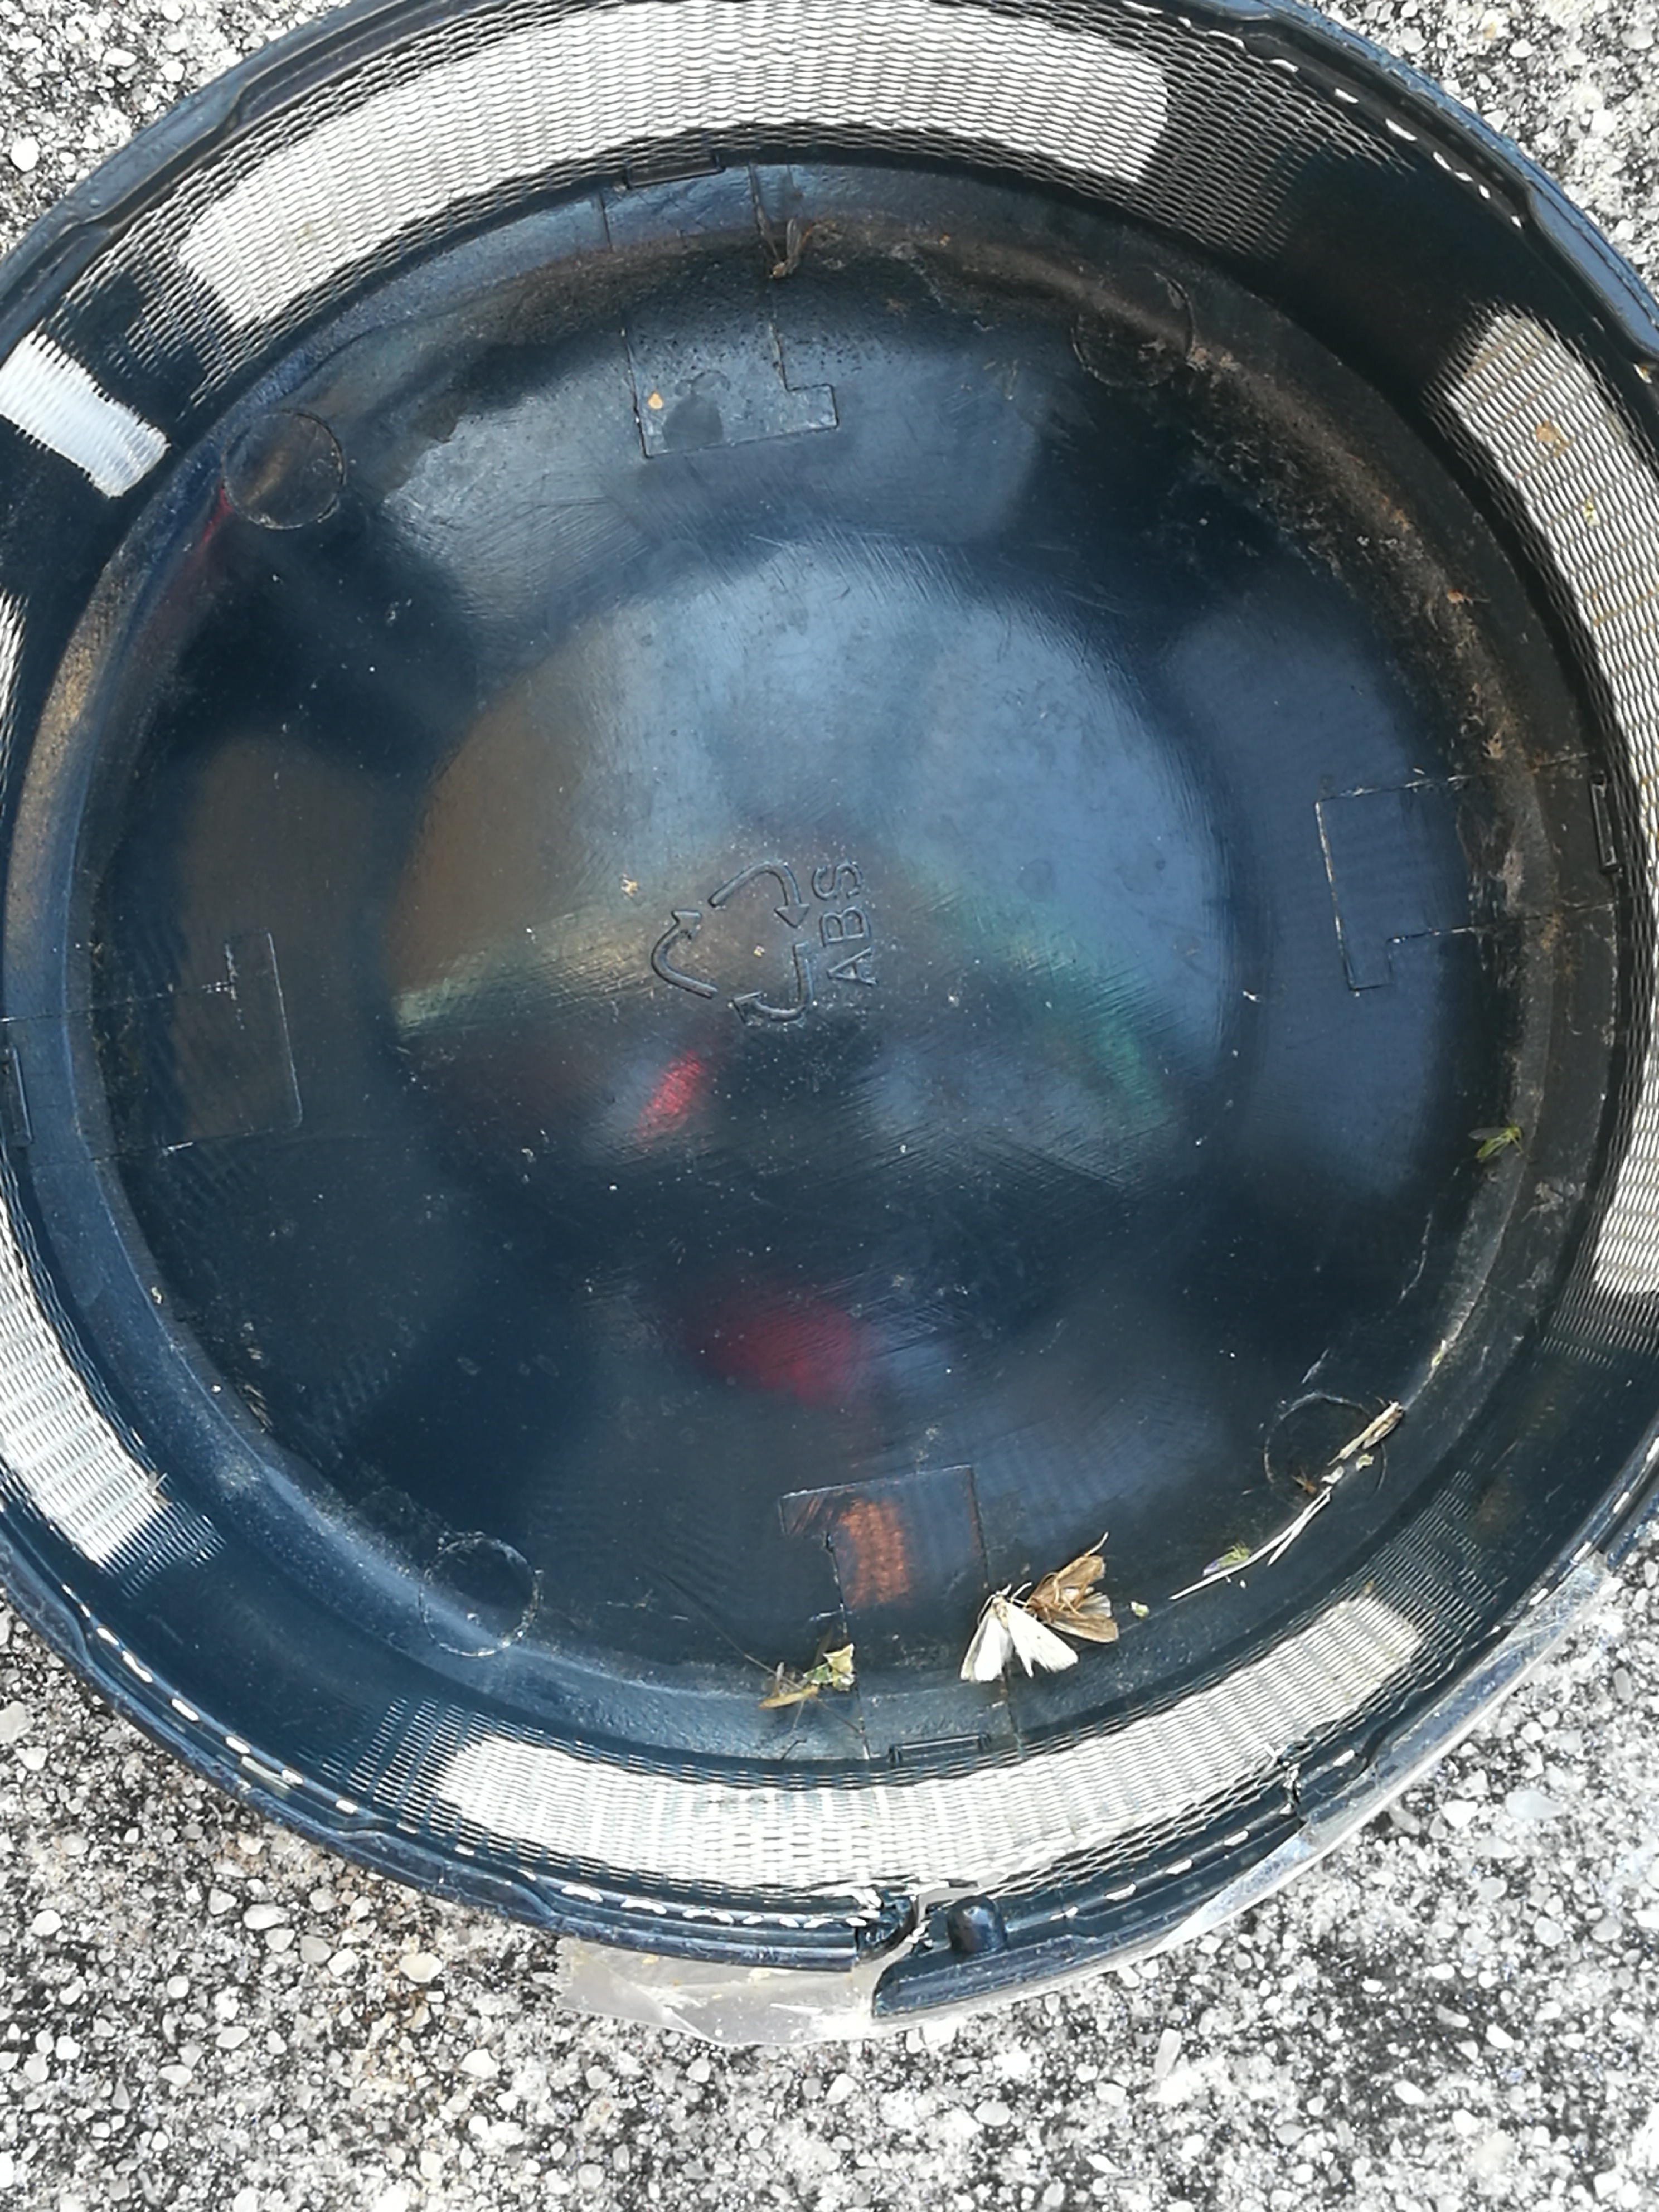mosquito: (760, 1688, 817, 1707)
moth: (960, 1594, 1077, 1681), (1023, 1554, 1117, 1641)
